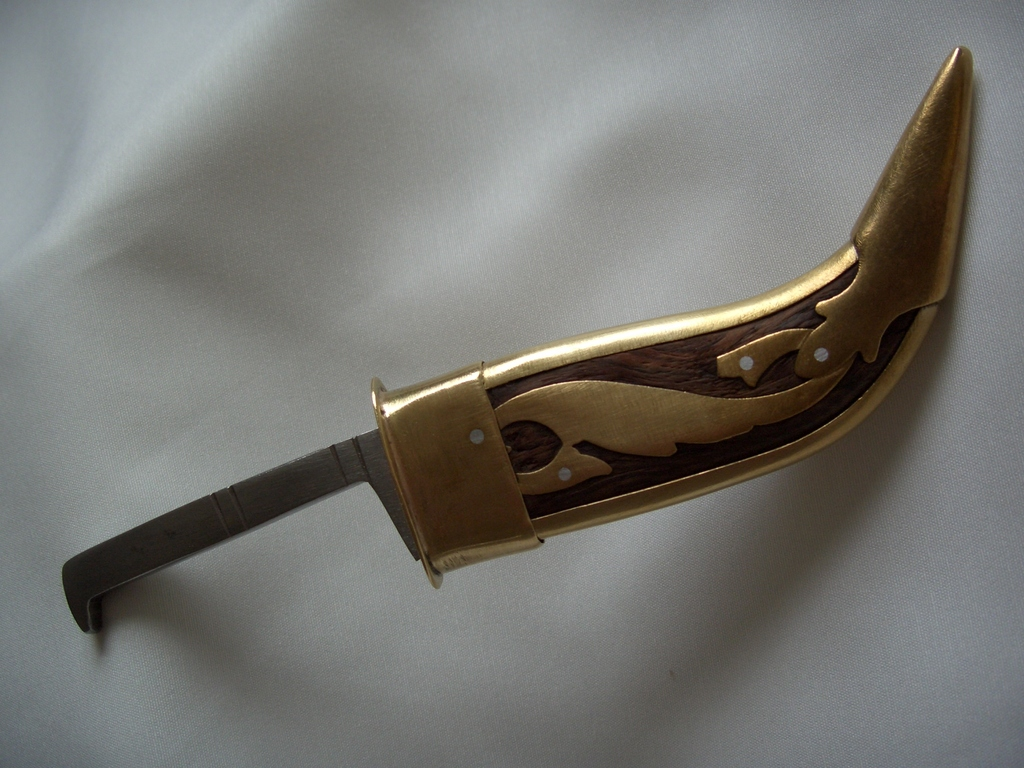knife: (62, 43, 974, 635)
